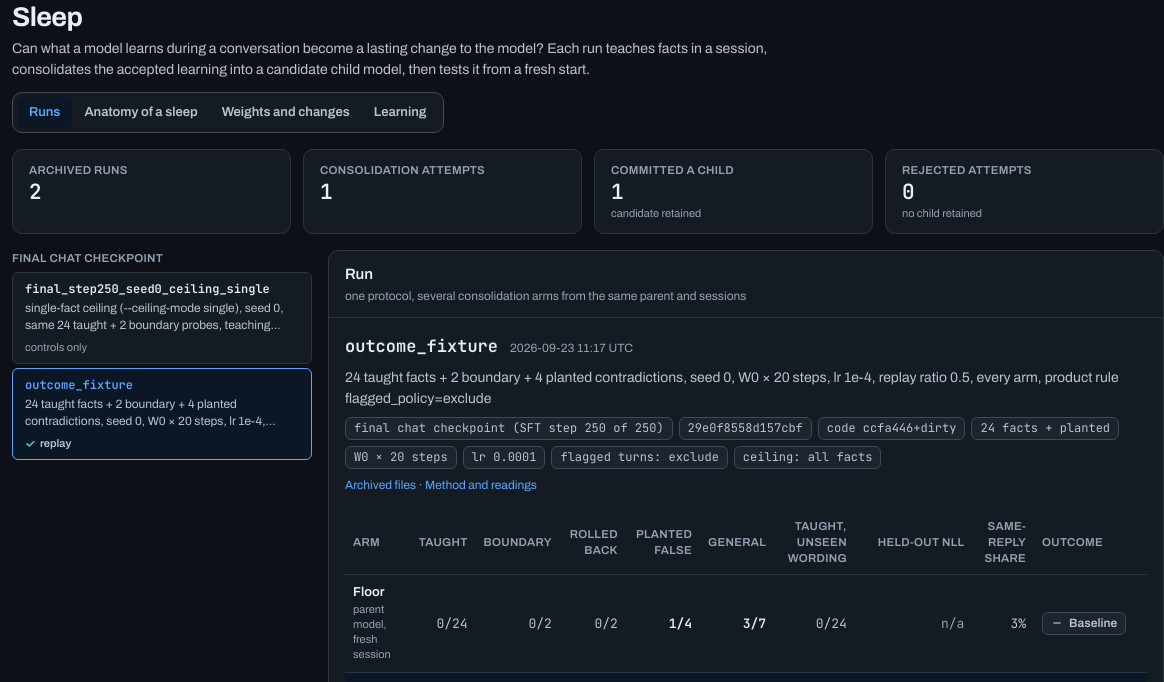
weights and changes › preserves accepted through the run summary, weights and anatomy
Check: the heading "outcome_fixture" is shown, box [345,334,498,359]
Check: the text "1" below "Committed a child" is shown, box [611,178,624,205]
Click the button "Weights and changes": (286,112) [210,97,362,128]
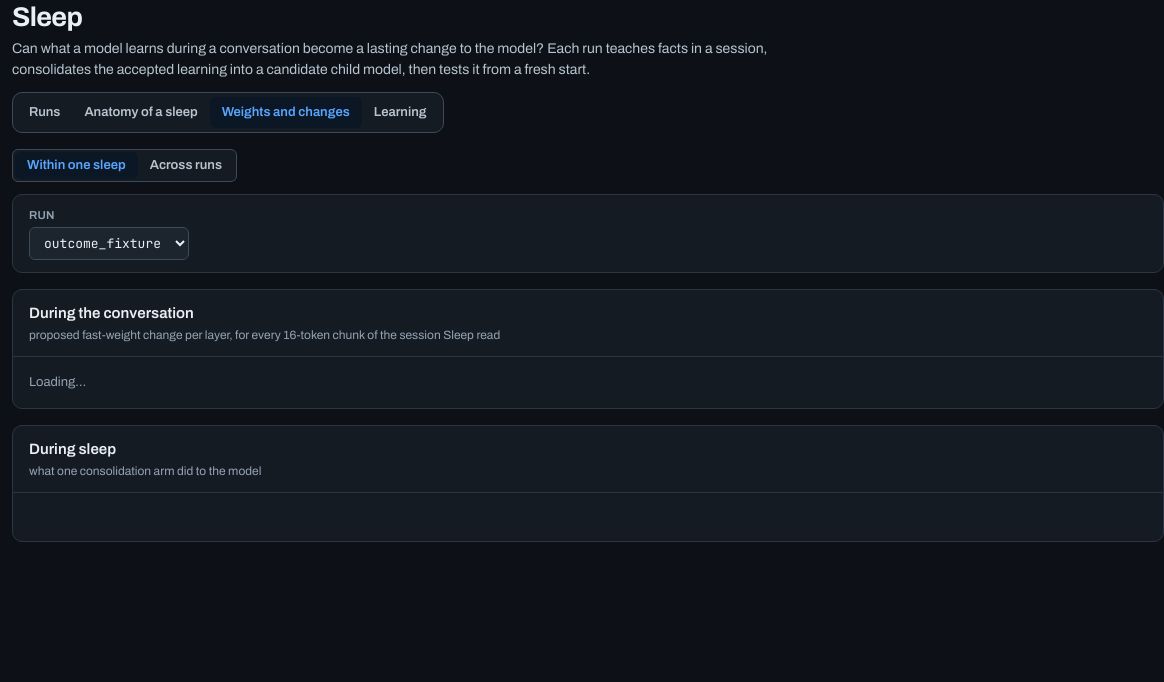
Click the button "Across runs": (186,166) [138,152,234,179]
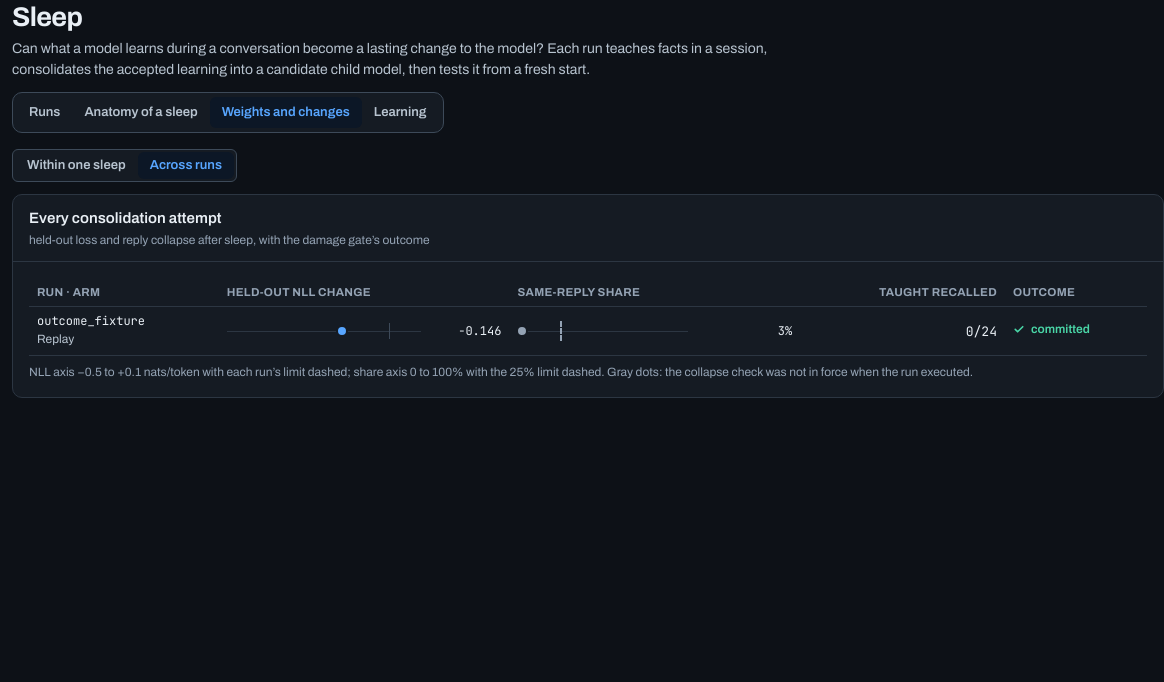
Check: the number of rows is 2, box [29,278,1147,306]; [29,306,1147,356]
Check: the text "committed" is shown, box [1013,321,1090,338]
Click the button "outcome_fixture Replay": (91,331) [37,313,145,349]
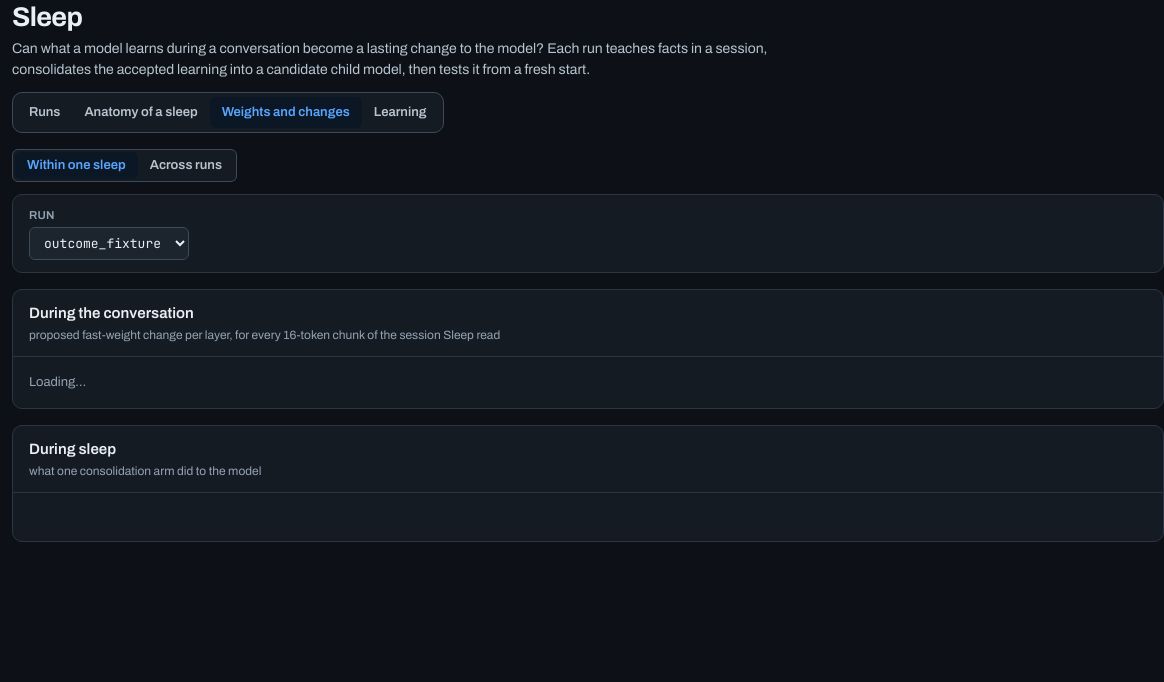
Check: the dropdown labelled "Run" shows "outcome_fixture", box [29,227,189,260]
Click the button "Anatomy of a sleep": (141,112) [72,97,210,128]
(page scrolled)
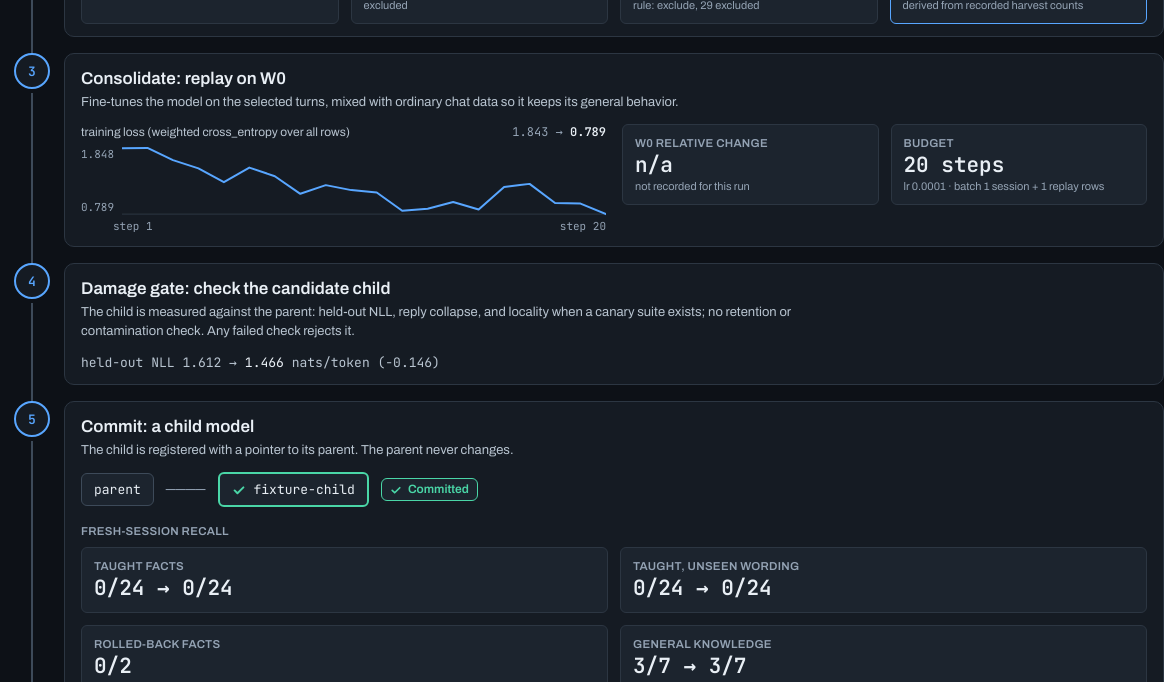
Check: the heading "Commit: a child model" is shown, box [81,414,254,439]
